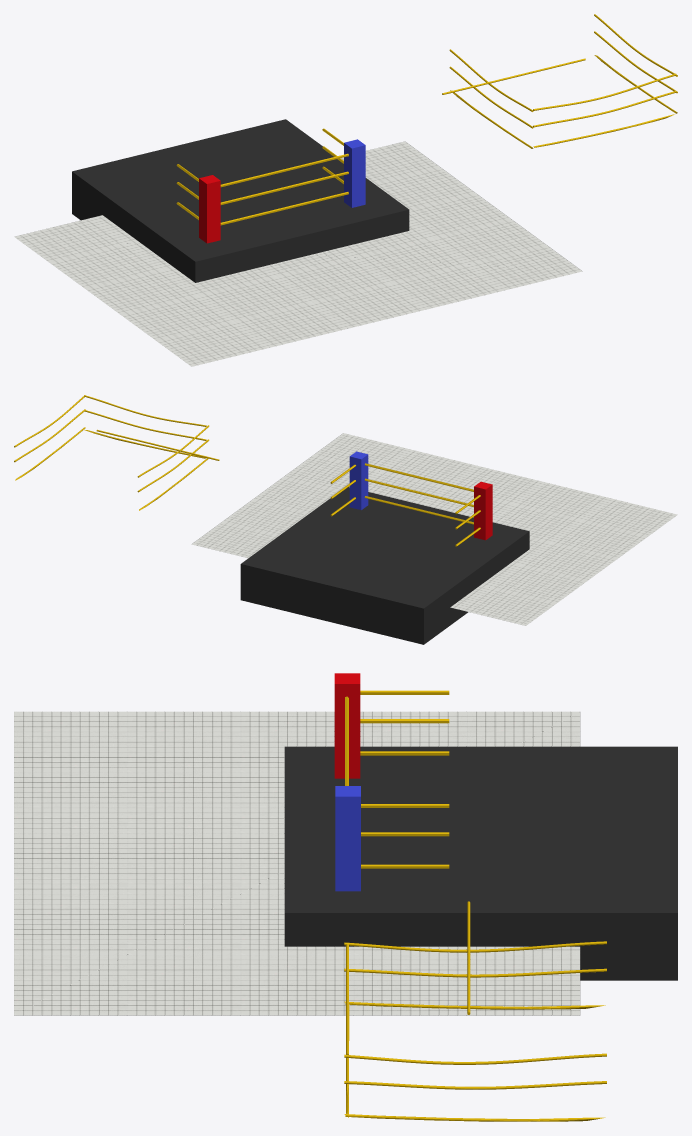
File: background.glb
The picture shows the model from 3 angles, top to bottom: view 1: azimuth 30°, elevation 25°; view 2: azimuth 150°, elevation 25°; view 3: azimuth 270°, elevation 25°; orthographic projection. The views are drawn at different scales.
Visible parts, largest first — view 1: Plane, Cube, Cube.001, Cube.003; view 2: Plane, Cube, Cube.003, Cube.001; view 3: Plane, Cube, Cube.003, Cube.001, Cylinder.017, Cylinder.013, Cylinder.016, Cylinder.014, Cylinder.015, Cylinder.018.
Part boxes in pixels (x1=…): Plane: x1=14, y1=141, x2=582, y2=366; Cube: x1=72, y1=119, x2=409, y2=282; Cube.001: x1=199, y1=175, x2=220, y2=243; Cube.003: x1=344, y1=139, x2=365, y2=207; Plane: x1=191, y1=433, x2=677, y2=625; Cube: x1=240, y1=487, x2=529, y2=644; Cube.003: x1=349, y1=451, x2=368, y2=509; Cube.001: x1=474, y1=481, x2=492, y2=540; Plane: x1=14, y1=711, x2=580, y2=1015; Cube: x1=284, y1=746, x2=677, y2=980; Cube.003: x1=335, y1=786, x2=360, y2=891; Cube.001: x1=334, y1=673, x2=360, y2=778; Cylinder.017: x1=344, y1=1081, x2=606, y2=1089; Cylinder.013: x1=344, y1=941, x2=606, y2=952; Cylinder.016: x1=344, y1=1053, x2=606, y2=1064; Cylinder.014: x1=344, y1=968, x2=606, y2=977; Cylinder.015: x1=344, y1=1001, x2=605, y2=1009; Cylinder.018: x1=344, y1=1114, x2=605, y2=1121.
Size of the model in its own units: 37.99 by 6.27 by 23.25.
5 materials, 1 textured.
